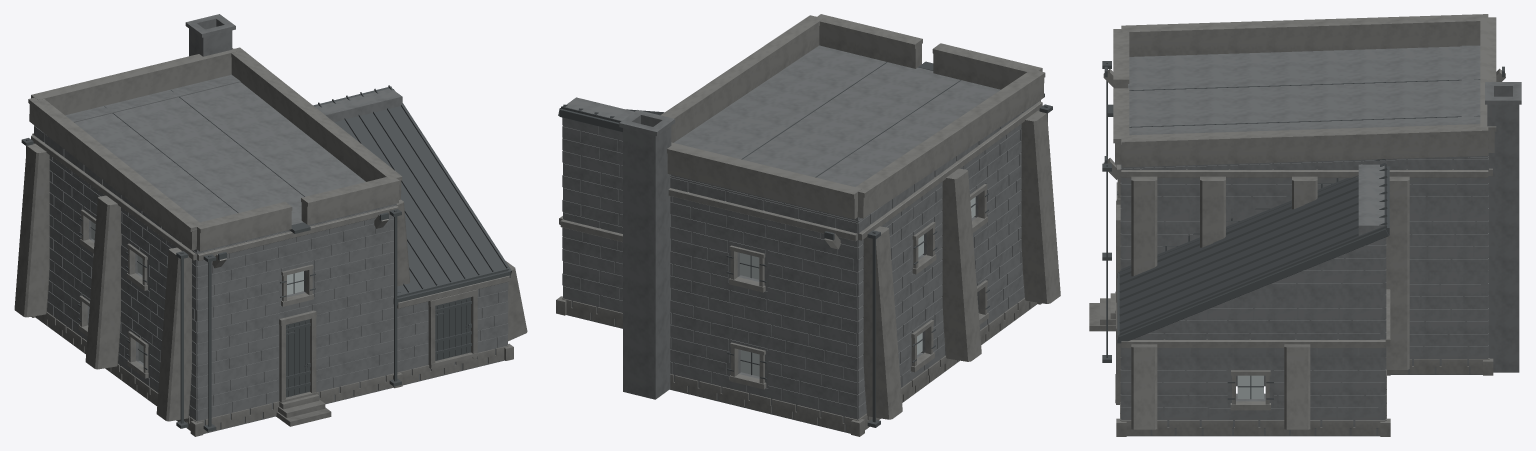
Rendered from v05_installed_emberholt.glb.
The picture shows the model from 3 angles, left to right: view 1: azimuth 30°, elevation 25°; view 2: azimuth 150°, elevation 25°; view 3: azimuth 270°, elevation 25°; orthographic projection. The views are drawn at different scales.
Parts seen in each view (by area): view 1: world_emberholt.emberholt_main_block.facade_masonry_skin, world_emberholt.emberholt_main_block.Draining terrace roof, world_emberholt.emberholt_main_block.Terrace parapet and cop, world_emberholt.emberholt_domestic_work_range.Lapped iron ro, world_emberholt.emberholt_main_block.facade_walls, world_emberholt.emberholt_main_block.facade_timber, world_emberholt.emberholt_main_block.emberholt_buttress_3_1, world_emberholt.emberholt_main_block.emberholt_buttress_3_0, world_emberholt.emberholt_main_block.emberholt_buttress_3_2, world_emberholt.emberholt_domestic_work_range.facade_masonry, world_emberholt.emberholt_main_block.facade_stone, world_emberholt.emberholt_main_block.emberholt_grounded_ties (×2) (+13 smaller); view 2: world_emberholt.emberholt_main_block.facade_masonry_skin, world_emberholt.emberholt_main_block.Terrace parapet and cop, world_emberholt.emberholt_main_block.Draining terrace roof, world_emberholt.emberholt_main_block.emberholt_hearth_flue, world_emberholt.emberholt_domestic_work_range.facade_masonry, world_emberholt.emberholt_main_block.facade_walls, world_emberholt.emberholt_main_block.facade_timber, world_emberholt.emberholt_main_block.emberholt_buttress_3_1, world_emberholt.emberholt_main_block.emberholt_buttress_3_2, world_emberholt.emberholt_main_block.emberholt_buttress_3_0, world_emberholt.emberholt_main_block.facade_stone, world_emberholt.emberholt_domestic_work_range.facade_walls (+6 smaller); view 3: world_emberholt.emberholt_main_block.Terrace parapet and cop, world_emberholt.emberholt_main_block.Draining terrace roof, world_emberholt.emberholt_domestic_work_range.facade_masonry, world_emberholt.emberholt_main_block.facade_masonry_skin, world_emberholt.emberholt_domestic_work_range.Lapped iron ro, world_emberholt.emberholt_main_block.emberholt_hearth_flue, world_emberholt.emberholt_main_block.facade_walls, world_emberholt.emberholt_domestic_work_range.facade_walls, world_emberholt.emberholt_domestic_work_range.Folded iron sh, world_emberholt.emberholt_domestic_work_range.emberholt_butt (×2), world_emberholt.emberholt_main_block.emberholt_buttress_1_3, world_emberholt.emberholt_domestic_work_range.facade_timber (+14 smaller).
Part boxes in pixels (x1,y1,x2,y2): world_emberholt.emberholt_main_block.facade_masonry_skin: (34,125,396,420); world_emberholt.emberholt_main_block.Draining terrace roof: (74,82,396,253); world_emberholt.emberholt_main_block.Terrace parapet and cop: (28,47,402,251); world_emberholt.emberholt_domestic_work_range.Lapped iron ro: (313,86,509,295); world_emberholt.emberholt_main_block.facade_walls: (35,74,395,420); world_emberholt.emberholt_main_block.facade_timber: (31,133,399,402); world_emberholt.emberholt_main_block.emberholt_buttress_3_1: (85,195,121,369); world_emberholt.emberholt_main_block.emberholt_buttress_3_0: (14,143,50,317); world_emberholt.emberholt_main_block.emberholt_buttress_3_2: (156,247,192,421); world_emberholt.emberholt_domestic_work_range.facade_masonry: (397,282,508,371); world_emberholt.emberholt_main_block.facade_stone: (35,312,393,433); world_emberholt.emberholt_main_block.emberholt_grounded_ties (×2): (21,138,401,431); world_emberholt.emberholt_main_block.facade_masonry_skin: (670,101,1038,418); world_emberholt.emberholt_main_block.Terrace parapet and cop: (661,14,1045,219); world_emberholt.emberholt_main_block.Draining terrace roof: (671,45,1000,222); world_emberholt.emberholt_main_block.emberholt_hearth_flue: (619,110,674,399); world_emberholt.emberholt_domestic_work_range.facade_masonry: (562,117,622,312); world_emberholt.emberholt_main_block.facade_walls: (671,45,1023,418); world_emberholt.emberholt_main_block.facade_timber: (668,100,1042,389); world_emberholt.emberholt_main_block.emberholt_buttress_3_1: (942,168,981,361); world_emberholt.emberholt_main_block.emberholt_buttress_3_2: (1021,110,1060,303); world_emberholt.emberholt_main_block.emberholt_buttress_3_0: (863,226,902,419); world_emberholt.emberholt_main_block.facade_stone: (670,297,1037,432); world_emberholt.emberholt_domestic_work_range.facade_walls: (563,97,633,306); world_emberholt.emberholt_main_block.Terrace parapet and cop: (1113,14,1496,167); world_emberholt.emberholt_main_block.Draining terrace roof: (1121,46,1487,168); world_emberholt.emberholt_domestic_work_range.facade_masonry: (1120,237,1386,419); world_emberholt.emberholt_main_block.facade_masonry_skin: (1120,156,1488,358); world_emberholt.emberholt_domestic_work_range.Lapped iron ro: (1119,164,1386,333); world_emberholt.emberholt_main_block.emberholt_hearth_flue: (1485,82,1521,372); world_emberholt.emberholt_main_block.facade_walls: (1121,45,1488,358); world_emberholt.emberholt_domestic_work_range.facade_walls: (1121,164,1385,419); world_emberholt.emberholt_domestic_work_range.Folded iron sh: (1119,168,1387,331); world_emberholt.emberholt_domestic_work_range.emberholt_butt (×2): (1131,344,1310,429); world_emberholt.emberholt_main_block.emberholt_buttress_1_3: (1386,176,1409,369); world_emberholt.emberholt_domestic_work_range.facade_timber: (1115,278,1390,410).
Size of the model in its own units: 12.33 by 7.93 by 11.32.
5 materials, 3 textured.
